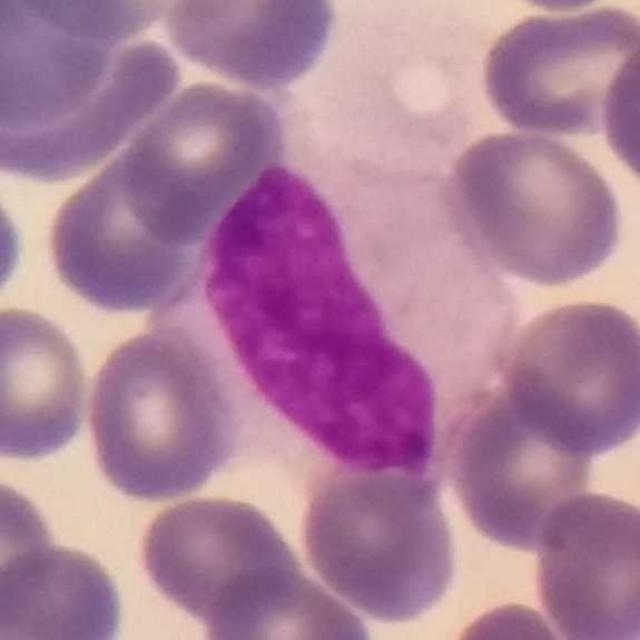Monocyte: (175, 135, 517, 482)
RBC: (0, 13, 186, 187), (441, 123, 629, 290), (80, 324, 242, 506), (40, 144, 206, 318), (119, 76, 287, 246), (442, 384, 604, 554), (295, 464, 463, 626), (132, 490, 303, 628), (497, 293, 639, 457), (476, 6, 640, 145), (528, 488, 640, 640), (159, 0, 344, 91), (0, 302, 96, 466), (1, 0, 118, 131), (198, 564, 381, 640), (0, 538, 130, 640), (0, 469, 63, 633), (596, 26, 640, 198), (6, 0, 188, 41), (439, 596, 587, 640), (0, 173, 29, 317)
